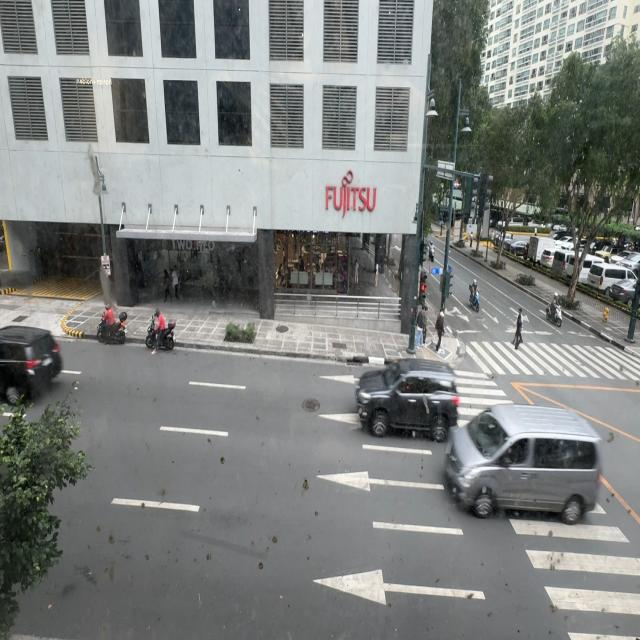crossing: (513, 306, 523, 348)
